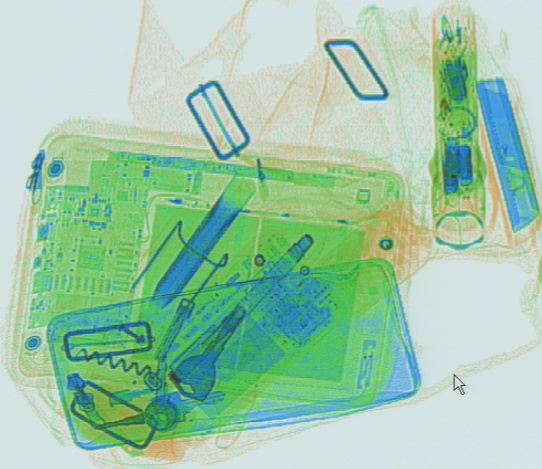knife: (468, 75, 538, 240)
